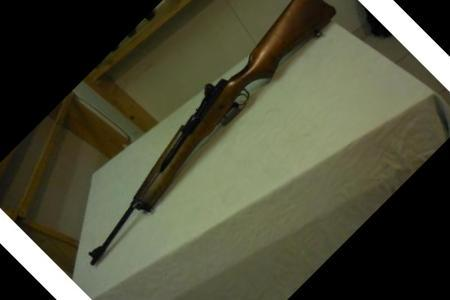larga: (88, 1, 339, 267)
